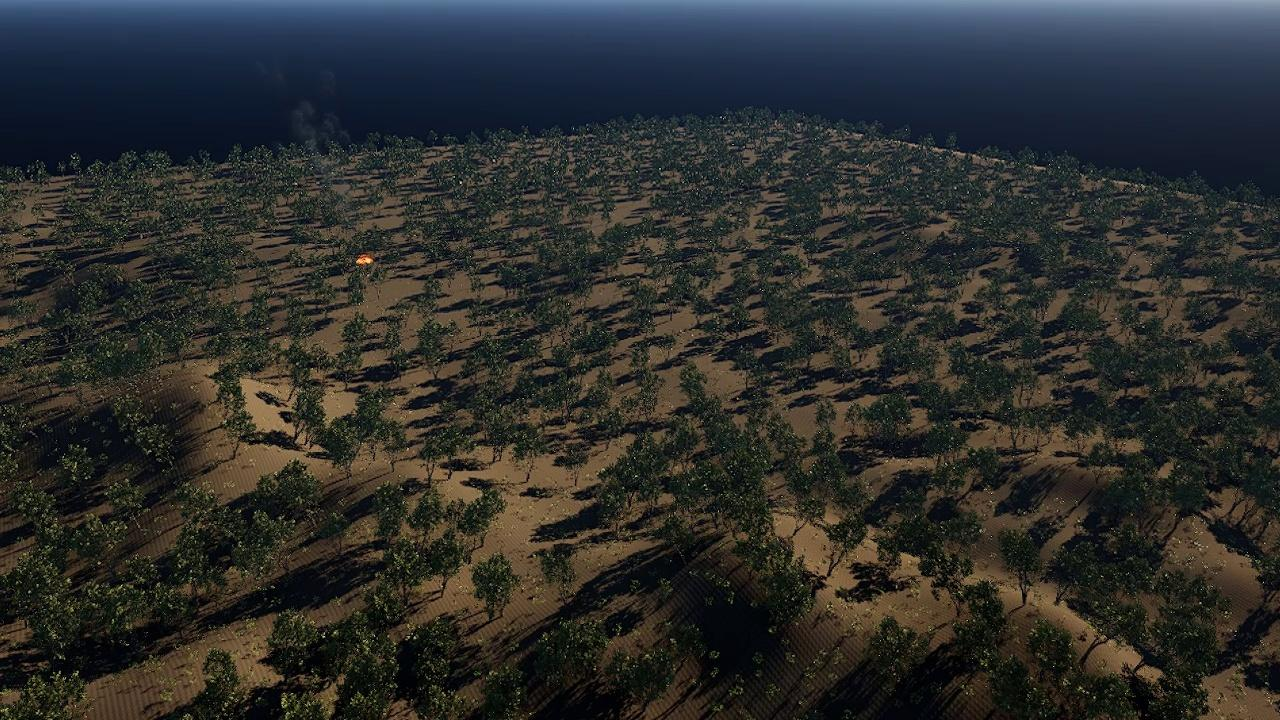fire: (357, 254, 374, 265)
smoke: (256, 59, 361, 219)
